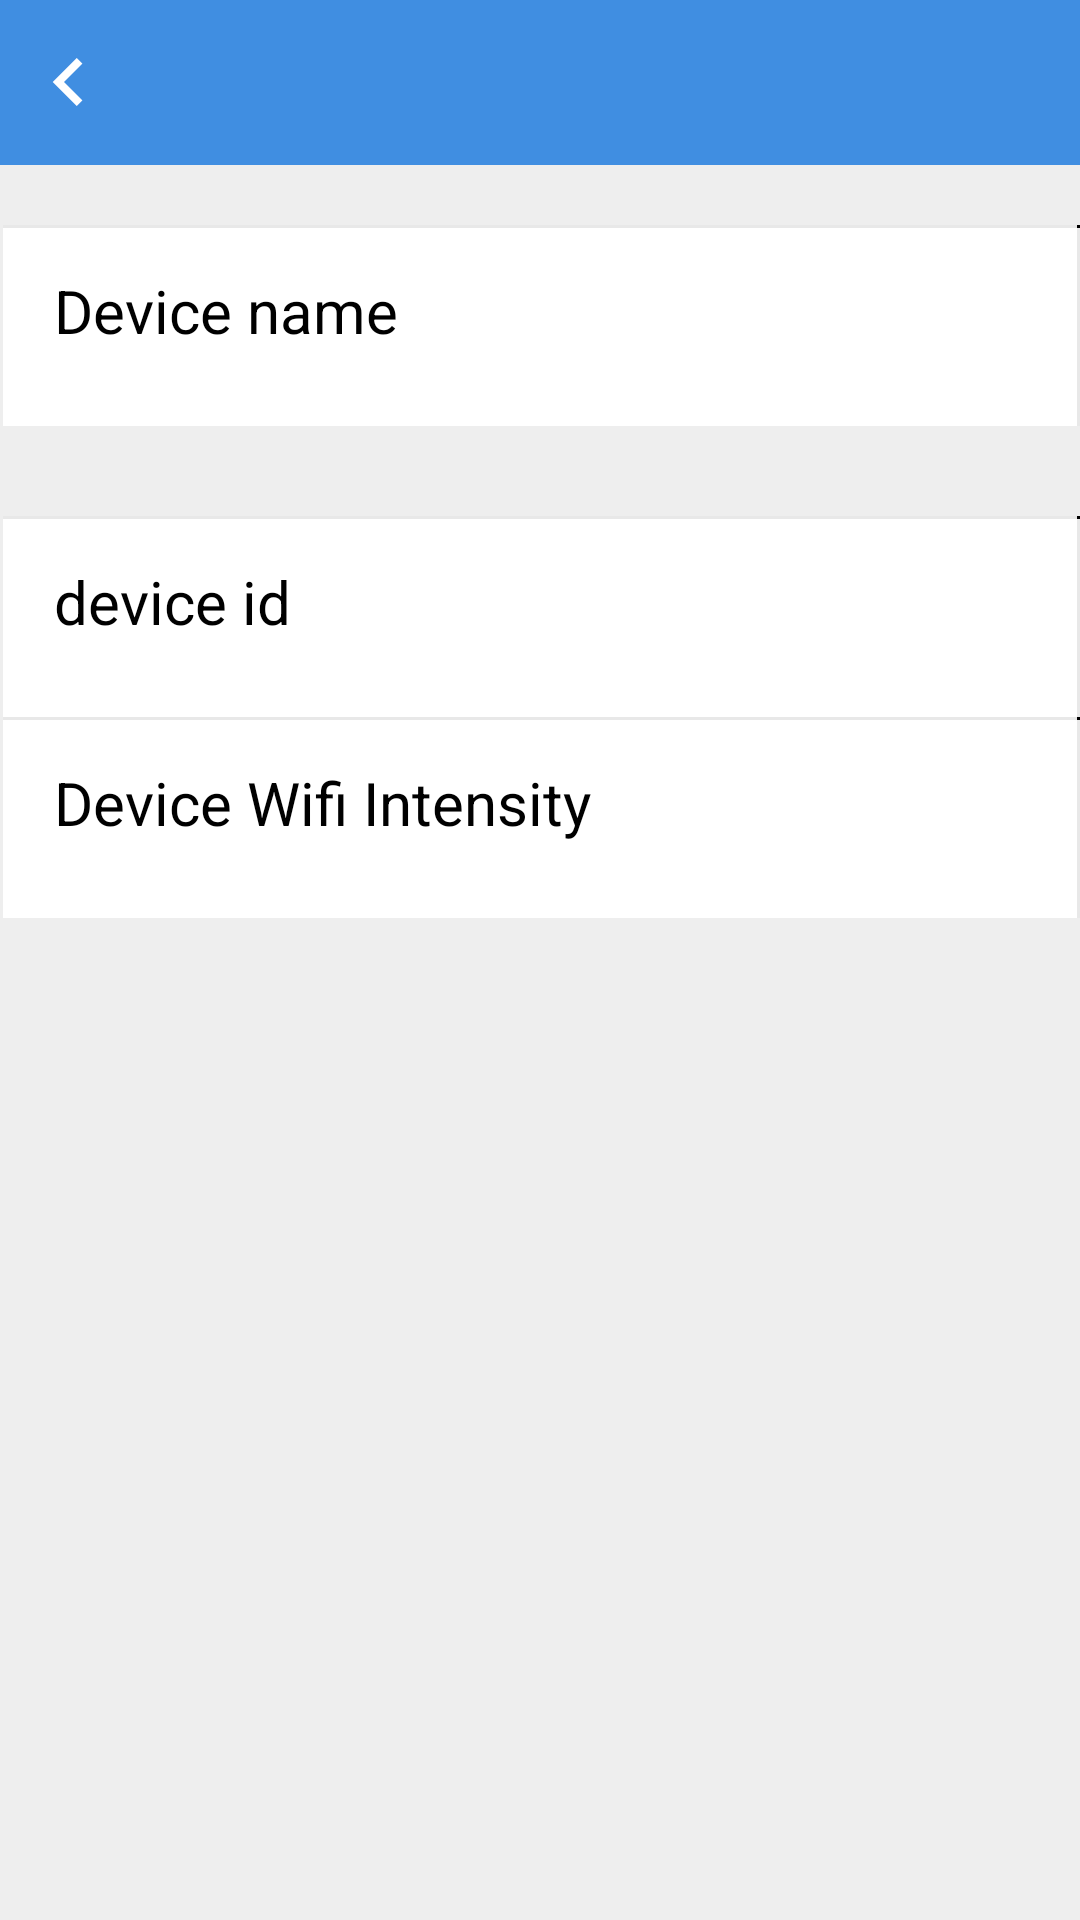

Named icons in this screenshot (1080w x 1920h) and their bounding boxes, (x1, y1, x2, y2):
back: (53, 58, 83, 106)
